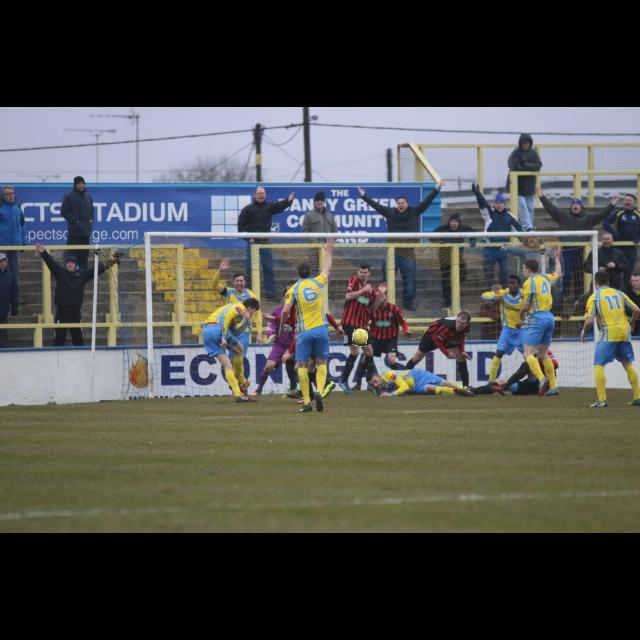Football: (352, 329, 368, 347)
